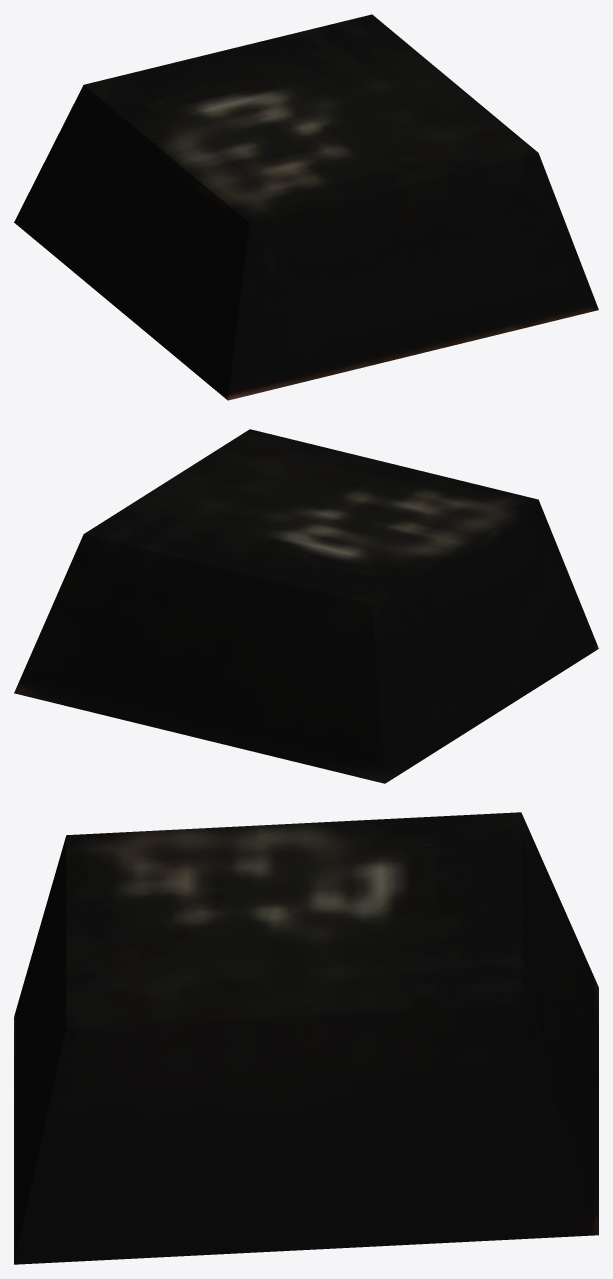
Rendered from link_103__key-109.glb.
The picture shows the model from 3 angles, top to bottom: view 1: azimuth 30°, elevation 25°; view 2: azimuth 150°, elevation 25°; view 3: azimuth 270°, elevation 25°; orthographic projection. The views are drawn at different scales.
Parts seen in each view (by area): view 1: geometry_0; view 2: geometry_0; view 3: geometry_0.
Boxes of the visible parts, left/top/right/bottom form: geometry_0: left=14, top=14, right=598, bottom=400; geometry_0: left=14, top=429, right=598, bottom=783; geometry_0: left=14, top=812, right=598, bottom=1264.
Bounding box in the file's own units: 0.0719 × 0.0315 × 0.0718.
1 material, 1 textured.
